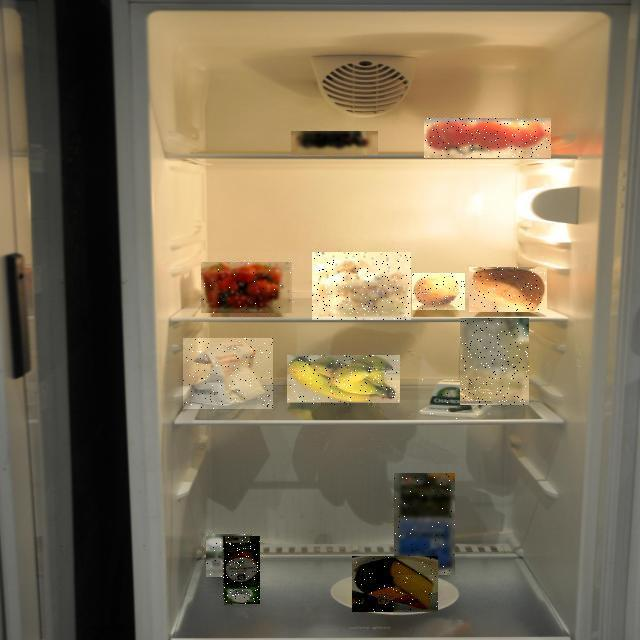Banana: (287, 356, 400, 406)
Blue Berries: (291, 131, 378, 155)
Cheese: (353, 556, 439, 612), (419, 377, 492, 419)
Corn: (206, 534, 252, 577)
Flour: (183, 338, 273, 409)
Heavy cream: (223, 536, 260, 604)
Milk: (394, 473, 455, 575)
Mushroom: (312, 252, 411, 320)
Straw Berry: (202, 262, 294, 313)
Sugar: (460, 318, 529, 405)
Sweet potato: (469, 267, 547, 312), (412, 273, 465, 310)
Tomato Paste: (424, 118, 551, 158)
